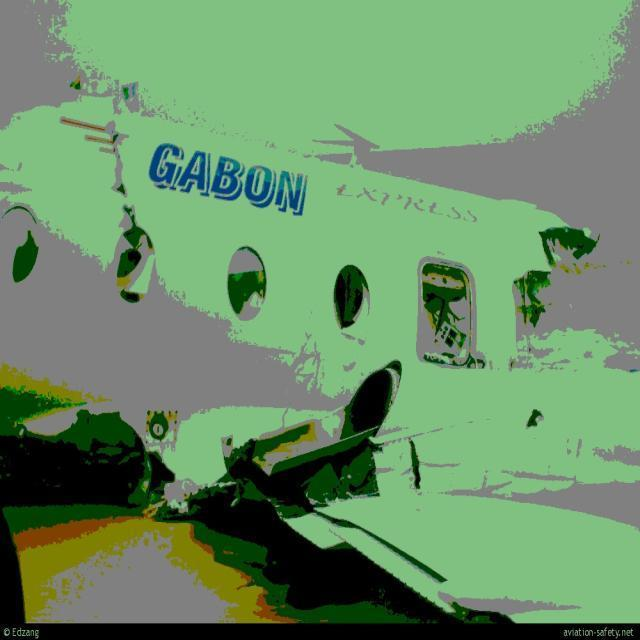crack: (406, 437, 426, 495)
